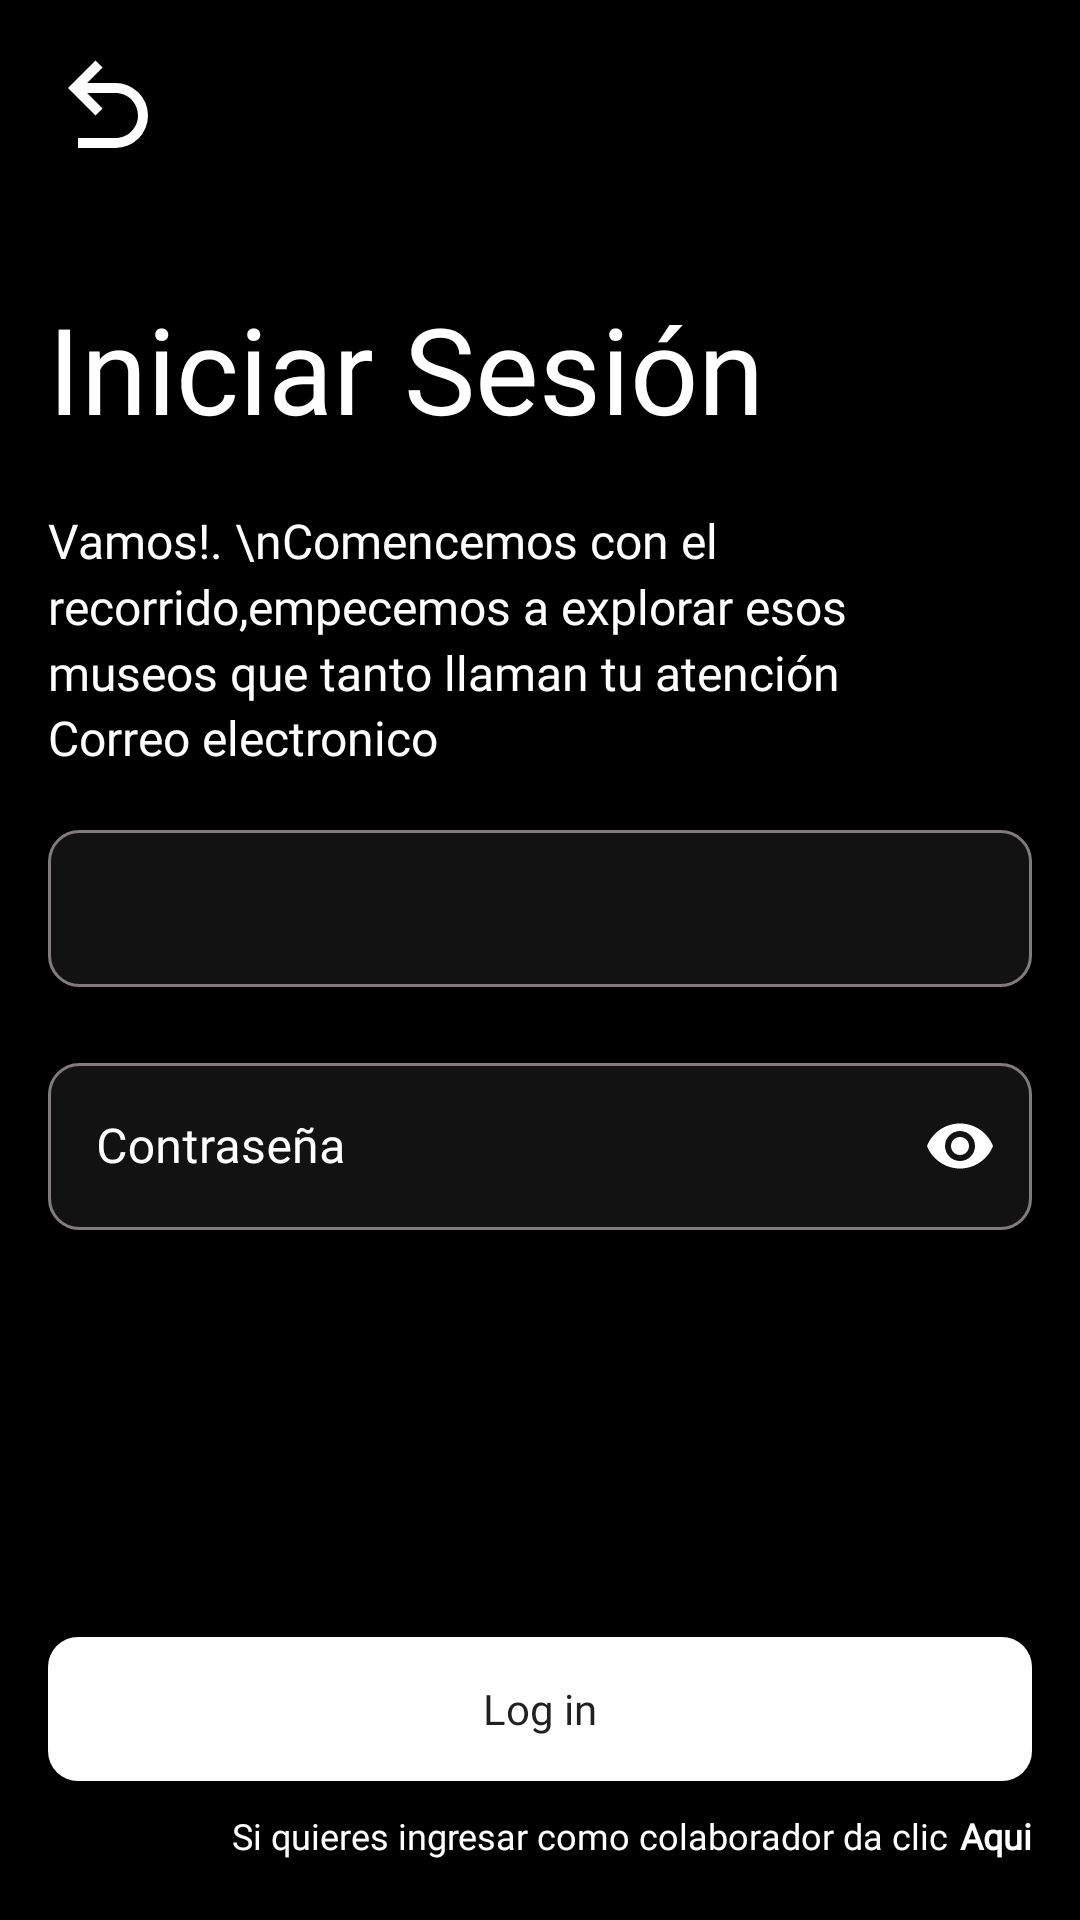

Screen size 1080x1920. Icon name, then its center in pixels as (x=x, y=y):
arrow left top: (x=108, y=104)
